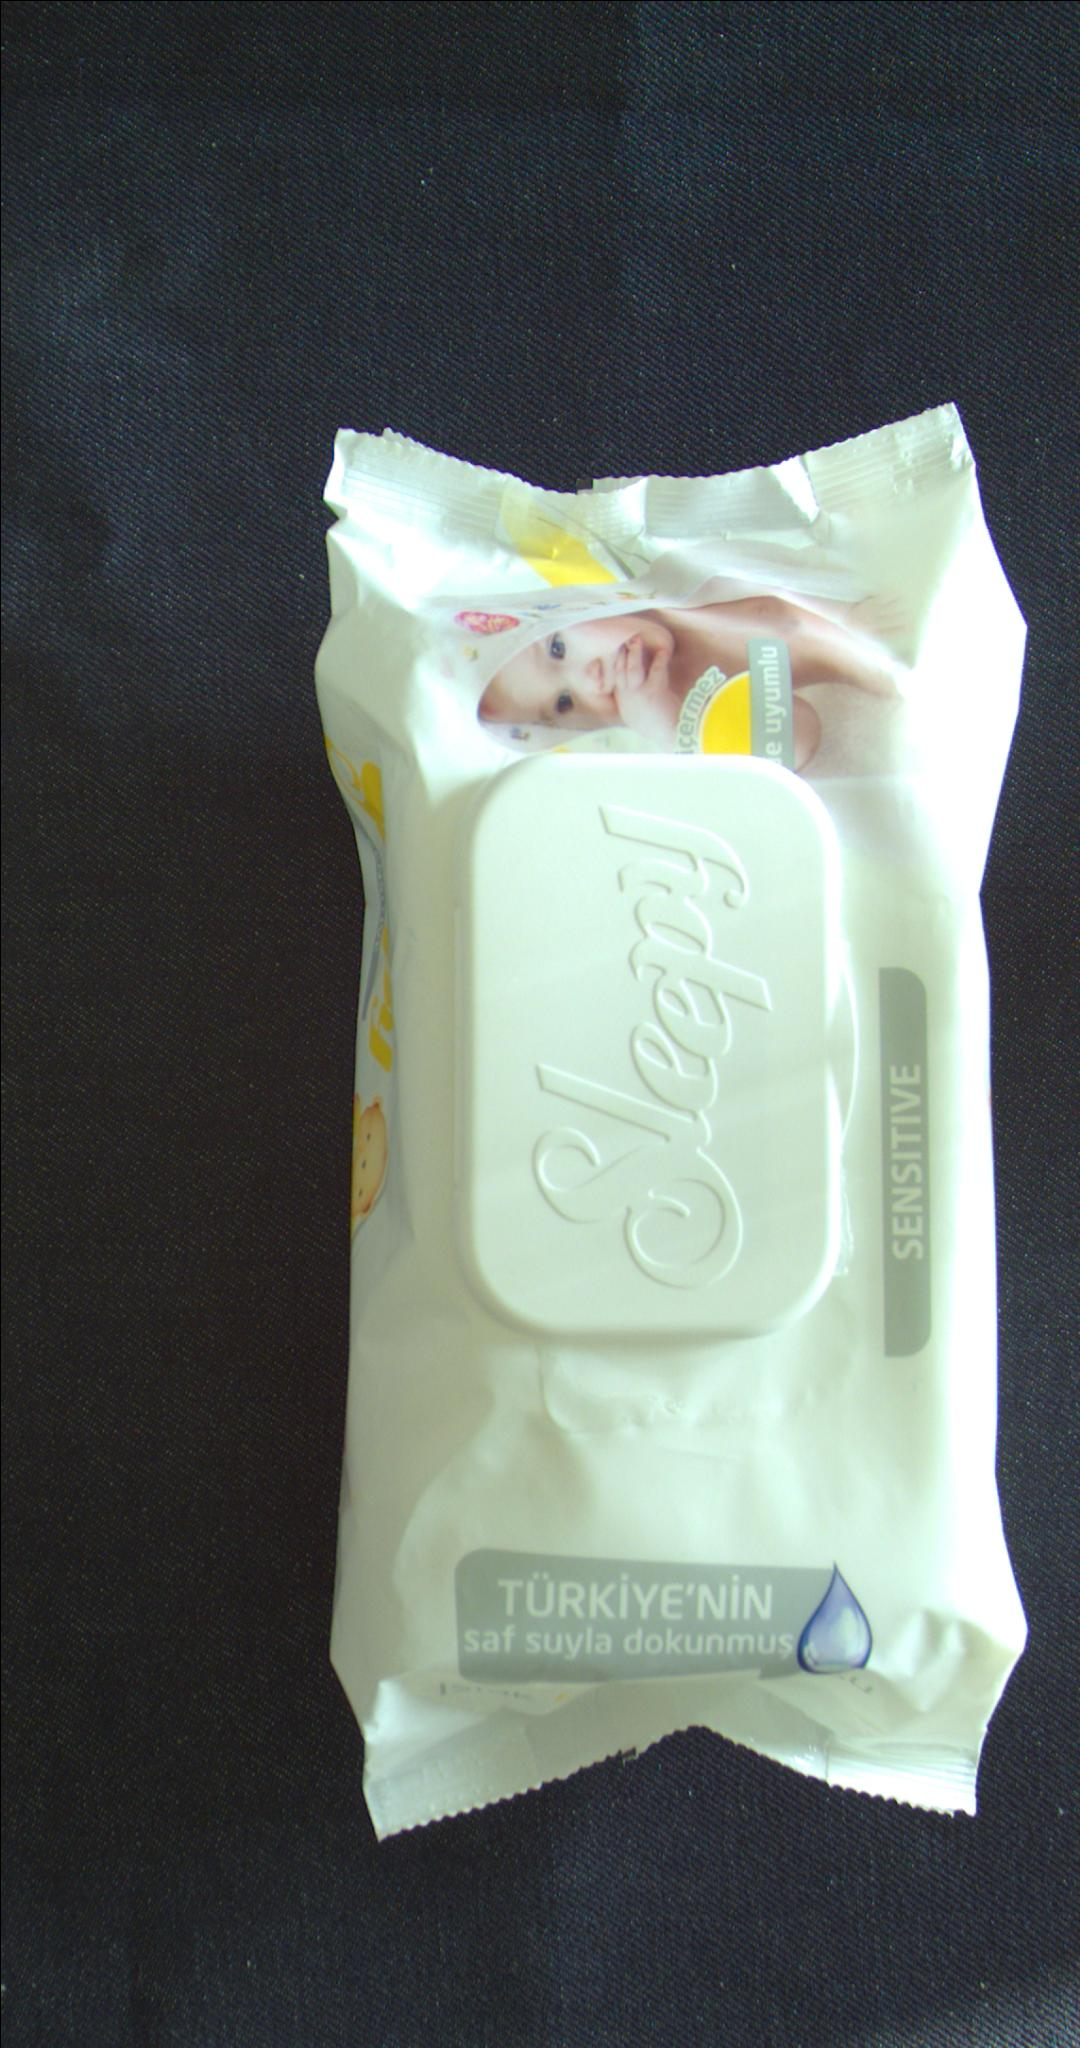kapak: (450, 749, 869, 1348)
